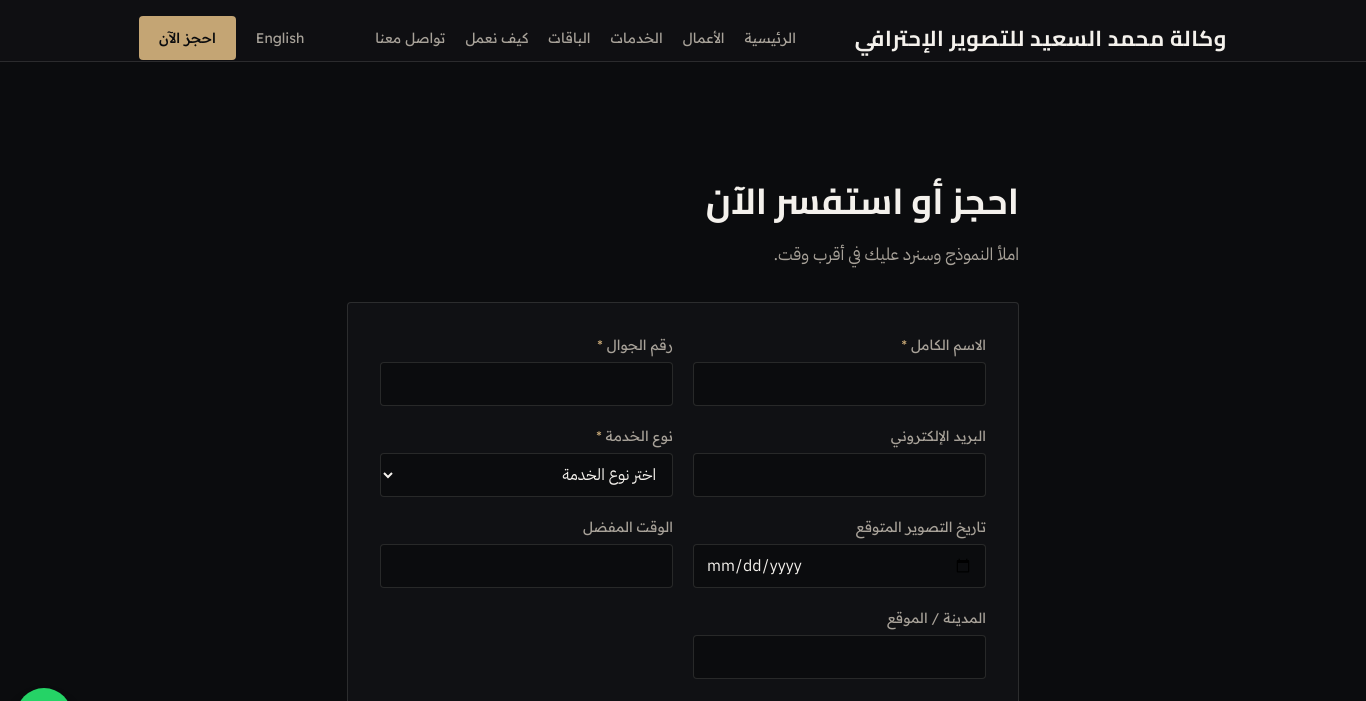
Scenario: Landing page › shows error banner when submit fails
The width and height of the screenshot is (1366, 701).
(page scrolled)
Type "أحمد" into the field labelled "الاسم الكامل *" at (840, 384), box top-left (693, 362), bottom-right (986, 406)
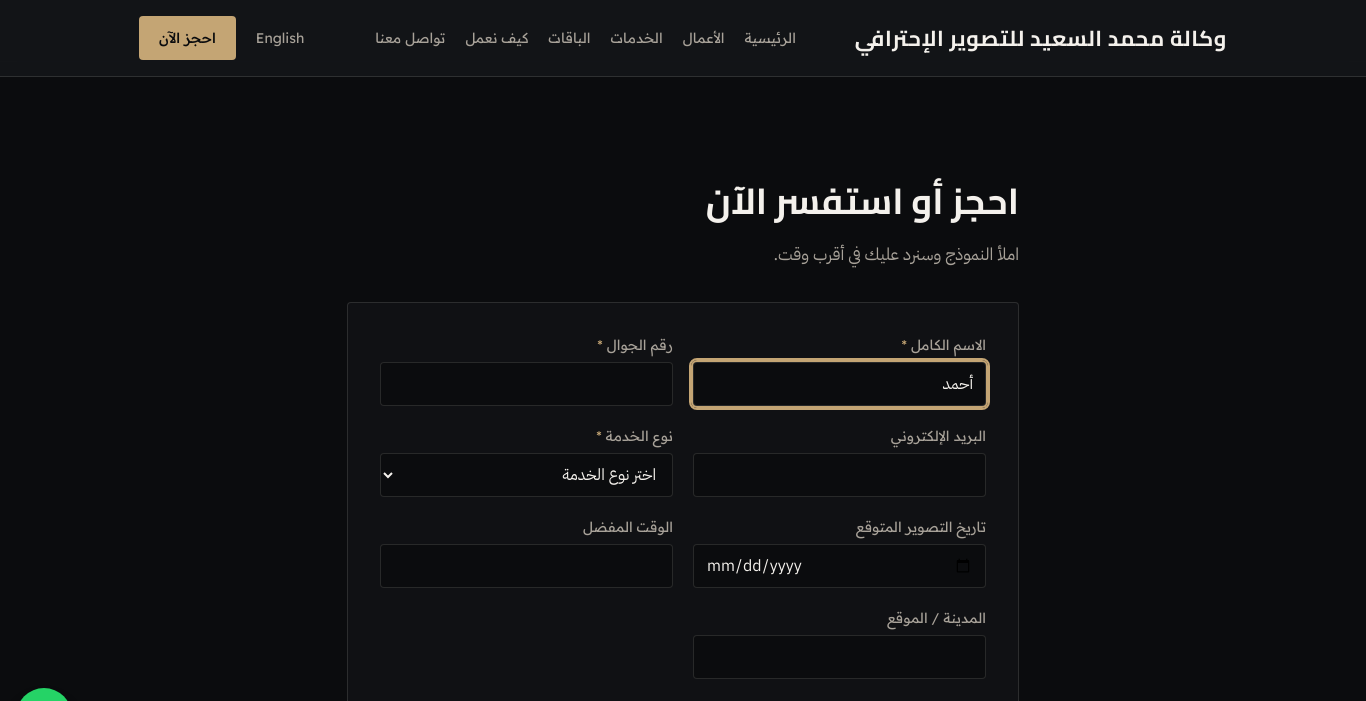
Type "0501234567" into the field labelled "رقم الجوال *" at (526, 384), box top-left (380, 362), bottom-right (673, 406)
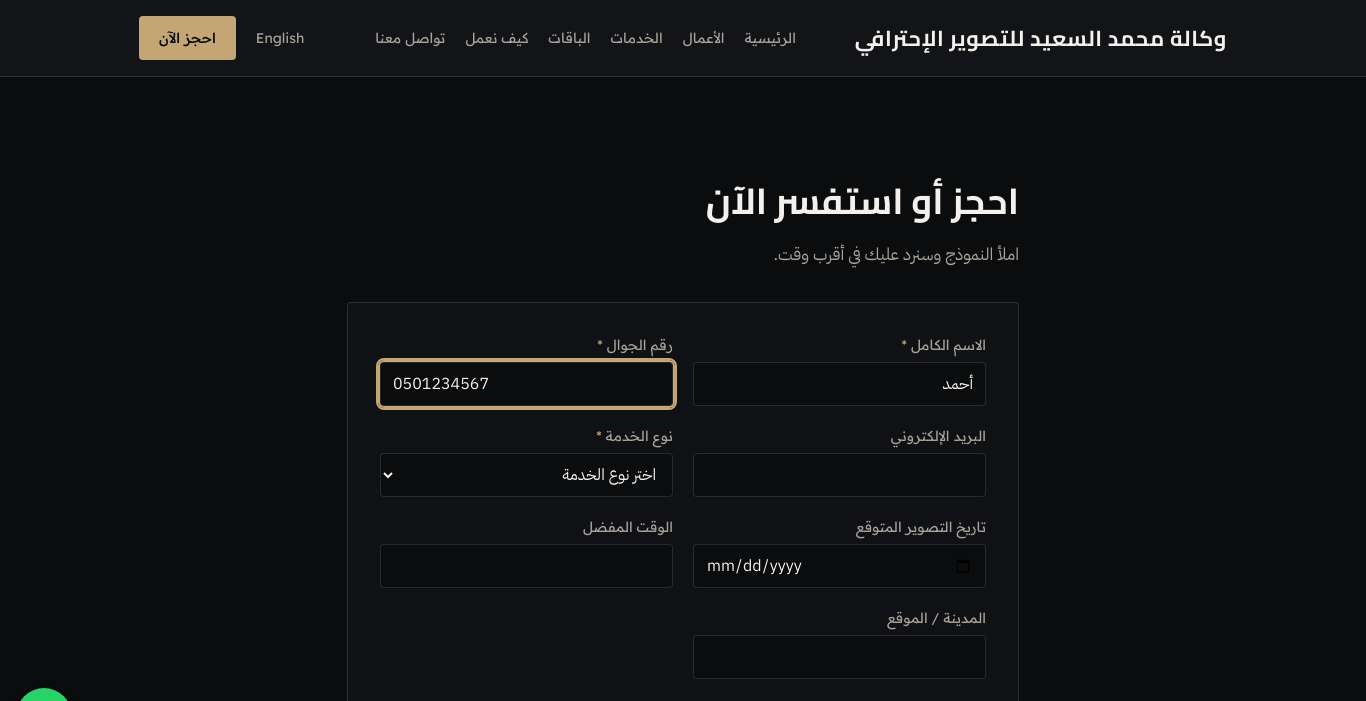
Select "تصوير فيديو" in the dropdown labelled "نوع الخدمة *" at (526, 475), box top-left (380, 453), bottom-right (673, 497)
(page scrolled)
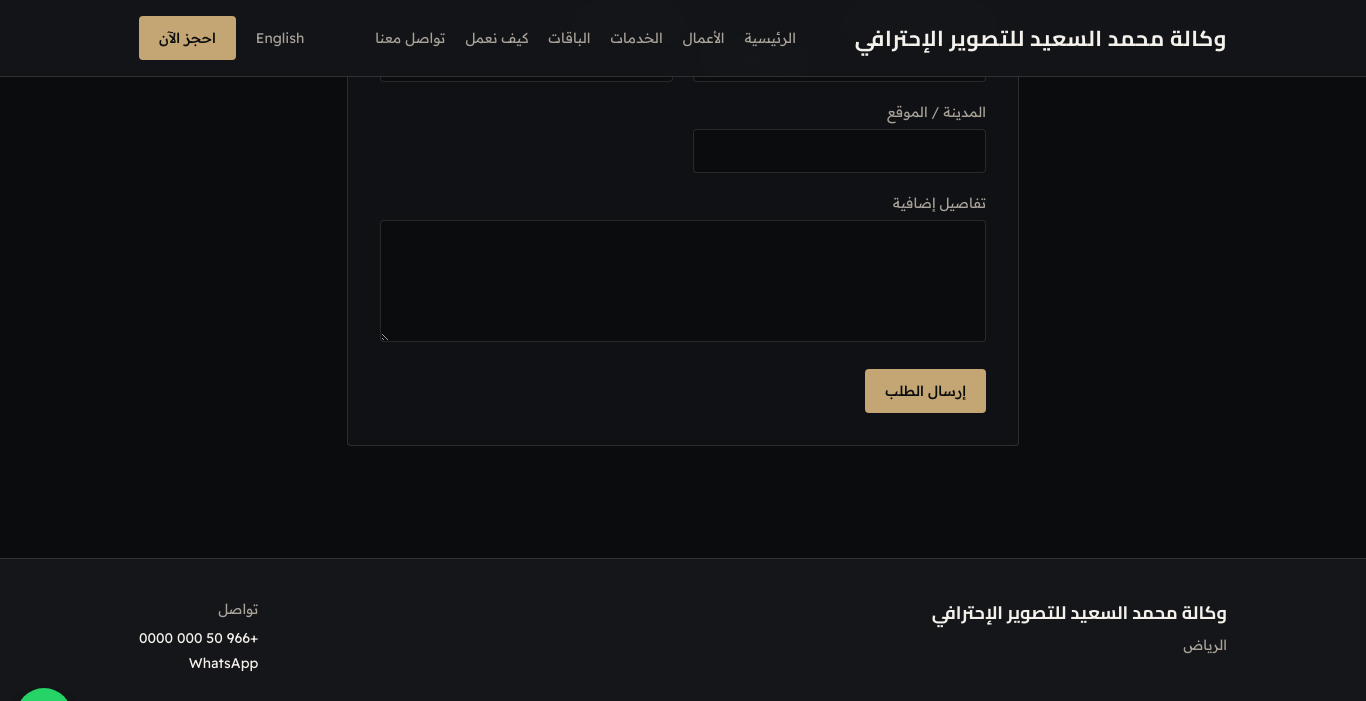
Click the button "إرسال الطلب" at (926, 391), box top-left (865, 369), bottom-right (986, 413)
(page scrolled)
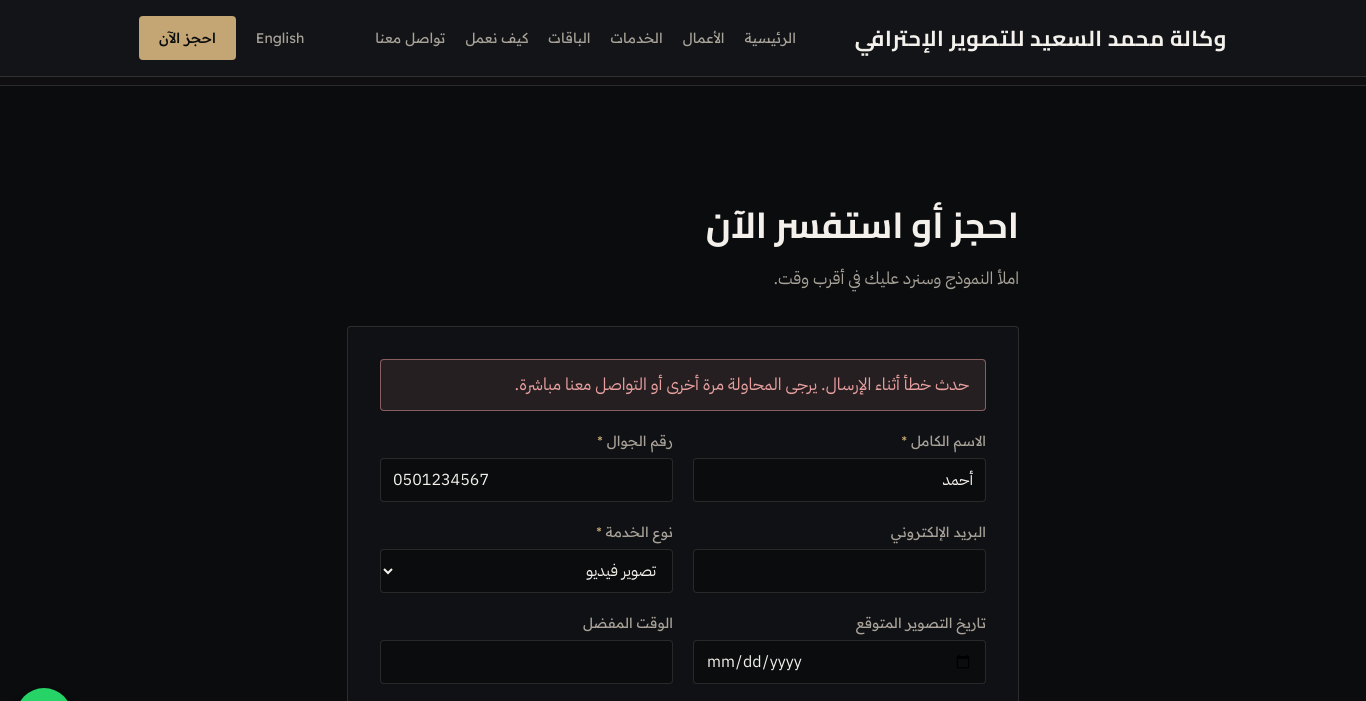
Expected: the text "حدث خطأ أثناء الإرسال. يرجى المحاولة مرة أخرى أو التواصل معنا مباشرة." is shown, top-left (380, 359), bottom-right (986, 410)
